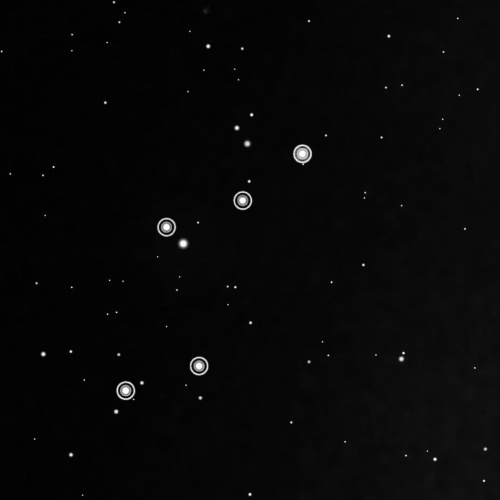lyra: (111, 138, 314, 408)
